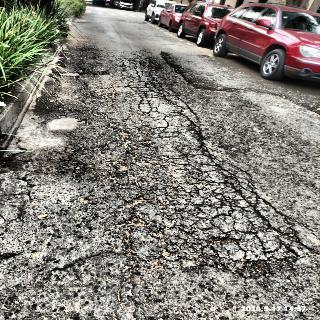alligator-crack: (101, 59, 291, 264)
